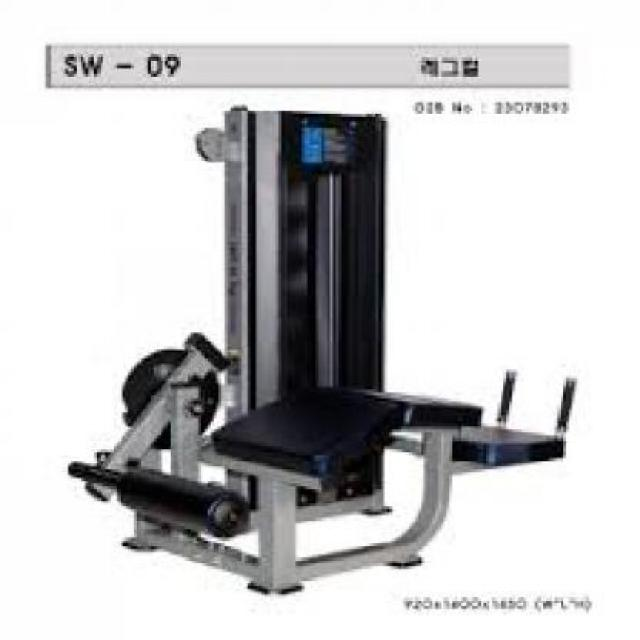reg curl machine: (69, 97, 583, 598)
